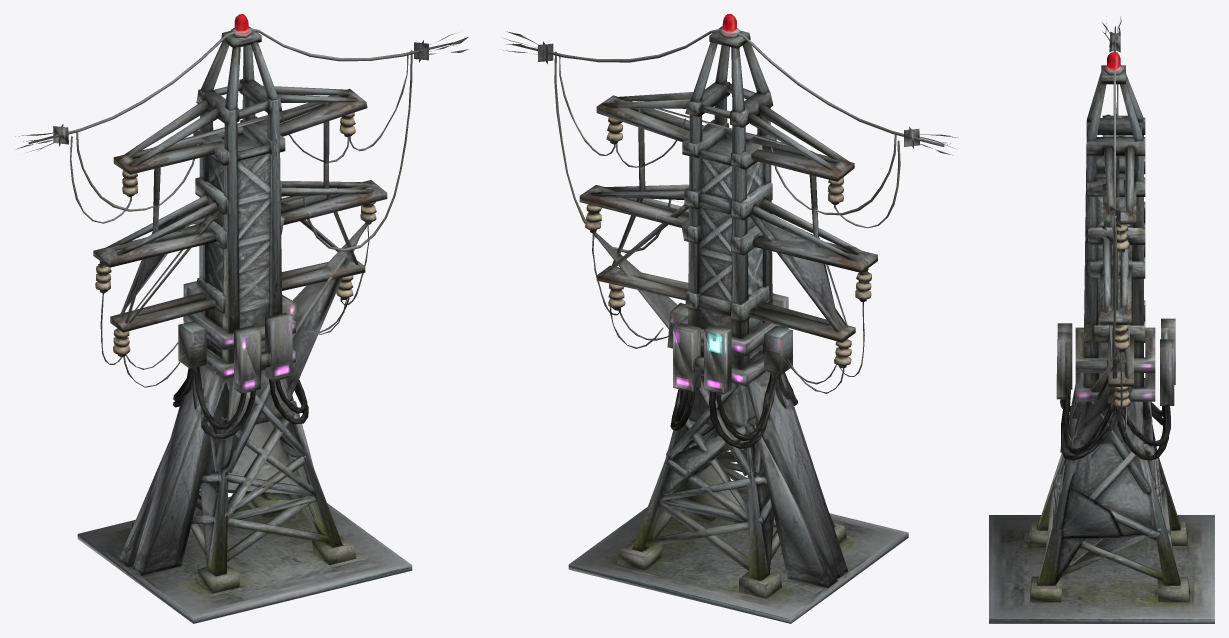
File: pylon.glb
3 renders of one model, left to right at view 1: azimuth 30°, elevation 25°; view 2: azimuth 150°, elevation 25°; view 3: azimuth 270°, elevation 25°, orthographic. The views are drawn at different scales.
Visible parts, largest first — view 1: Body, Glow; view 2: Body, Glow; view 3: Body.
Boxes of the visible parts, x1,y1,x2,y2 form: Body: (15, 14, 468, 623); Glow: (224, 336, 295, 393); Body: (501, 14, 958, 623); Glow: (673, 329, 745, 394); Body: (989, 16, 1214, 623).
Size of the model in its own units: 21.97 by 25 by 9.83.
2 materials, 2 textured.
